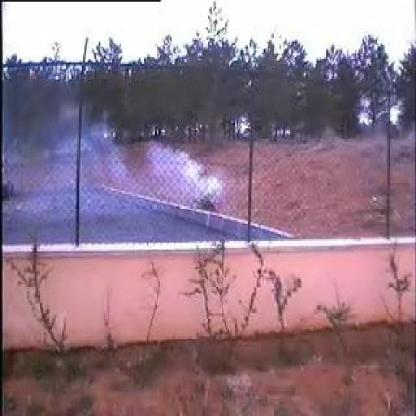-: (39, 118, 229, 239)
